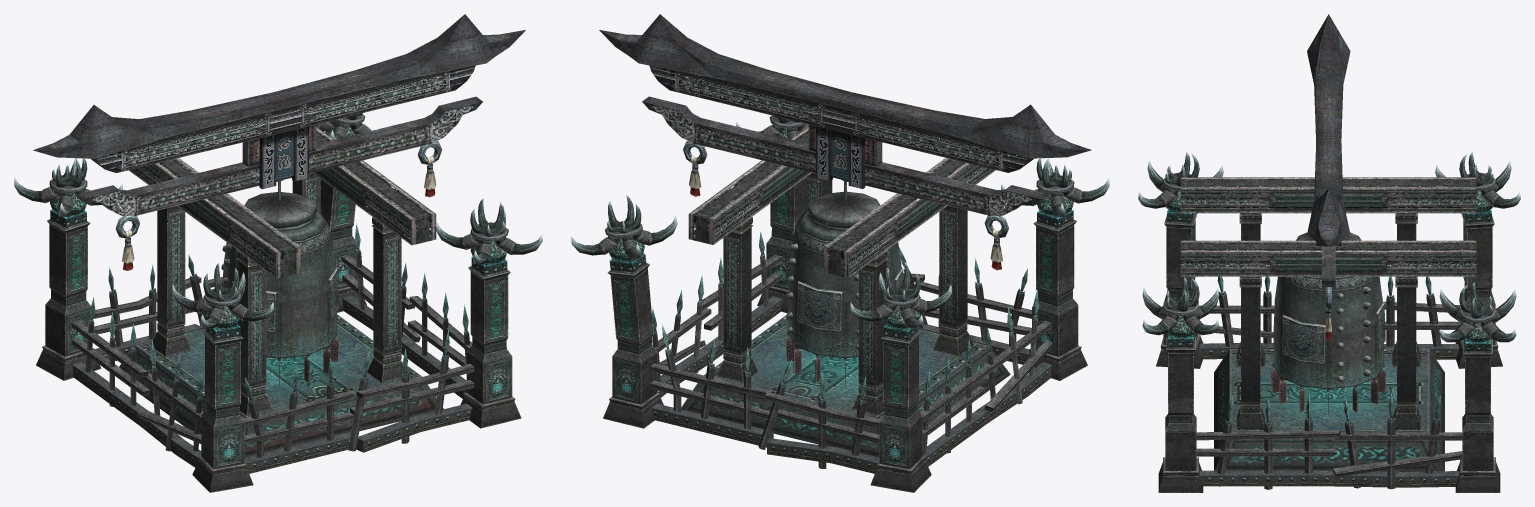
The model's file is 5st_bell_001.fbx.
3 views of the same model, side by side, from view 1: azimuth 30°, elevation 25°; view 2: azimuth 150°, elevation 25°; view 3: azimuth 270°, elevation 25° (orthographic). The views are drawn at different scales.
Parts seen in each view (by area): view 1: 5st_bell_001sfdgfdsg; view 2: 5st_bell_001sfdgfdsg; view 3: 5st_bell_001sfdgfdsg.
Part boxes in pixels (left/top/right/bottom): 5st_bell_001sfdgfdsg: left=14, top=14, right=542, bottom=492; 5st_bell_001sfdgfdsg: left=571, top=14, right=1109, bottom=492; 5st_bell_001sfdgfdsg: left=1138, top=14, right=1520, bottom=492.
Size of the model in its own units: 22.14 by 14.64 by 15.44.
